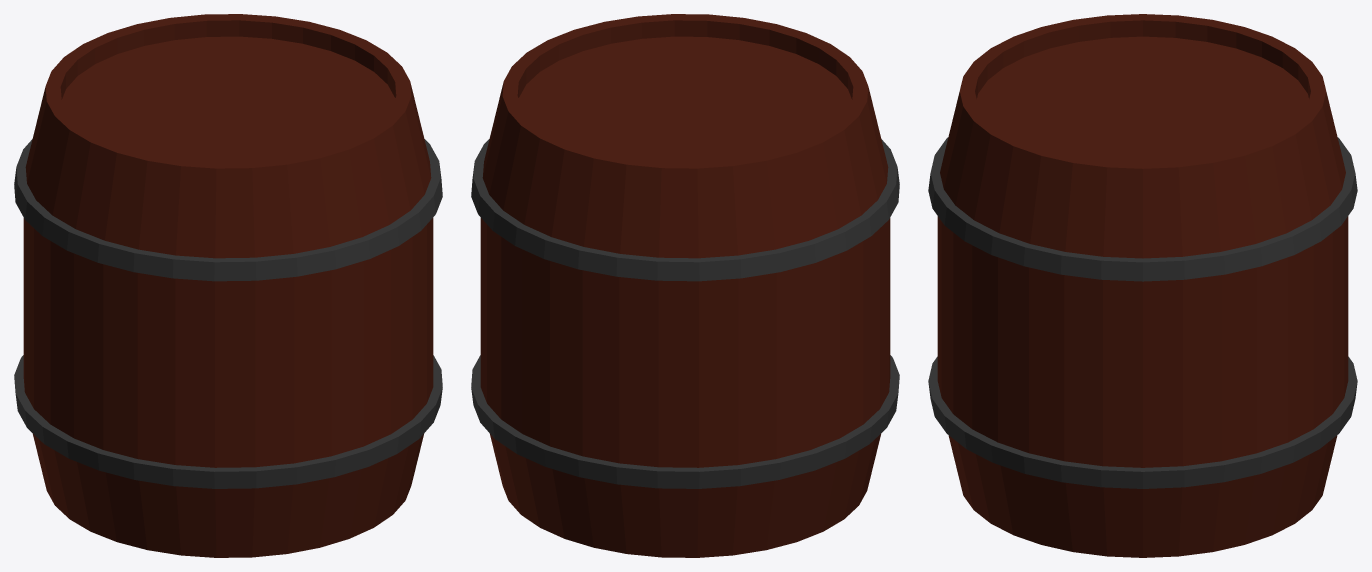
File: barrel.fbx
The picture shows the model from 3 angles, left to right: view 1: azimuth 30°, elevation 25°; view 2: azimuth 150°, elevation 25°; view 3: azimuth 270°, elevation 25°; orthographic projection.
Visible parts, largest first — view 1: Barrel; view 2: Barrel; view 3: Barrel.
Boxes of the visible parts, box(x1,y1,x2,y2) form: Barrel: box(14, 14, 442, 557); Barrel: box(471, 14, 899, 557); Barrel: box(928, 14, 1357, 557).
Size of the model in its own units: 100 by 100 by 100.
